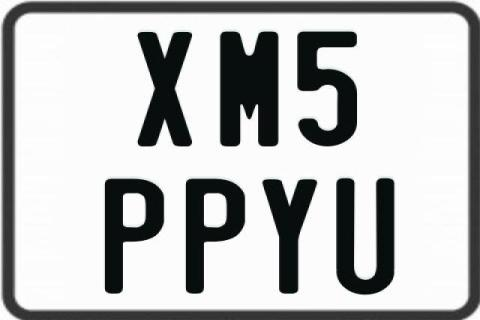0: (295, 29, 360, 144)
M: (219, 29, 277, 150)
P: (185, 176, 249, 291), (102, 178, 164, 294)
U: (334, 176, 395, 294)
X: (135, 31, 194, 148)
Y: (260, 178, 314, 296)
